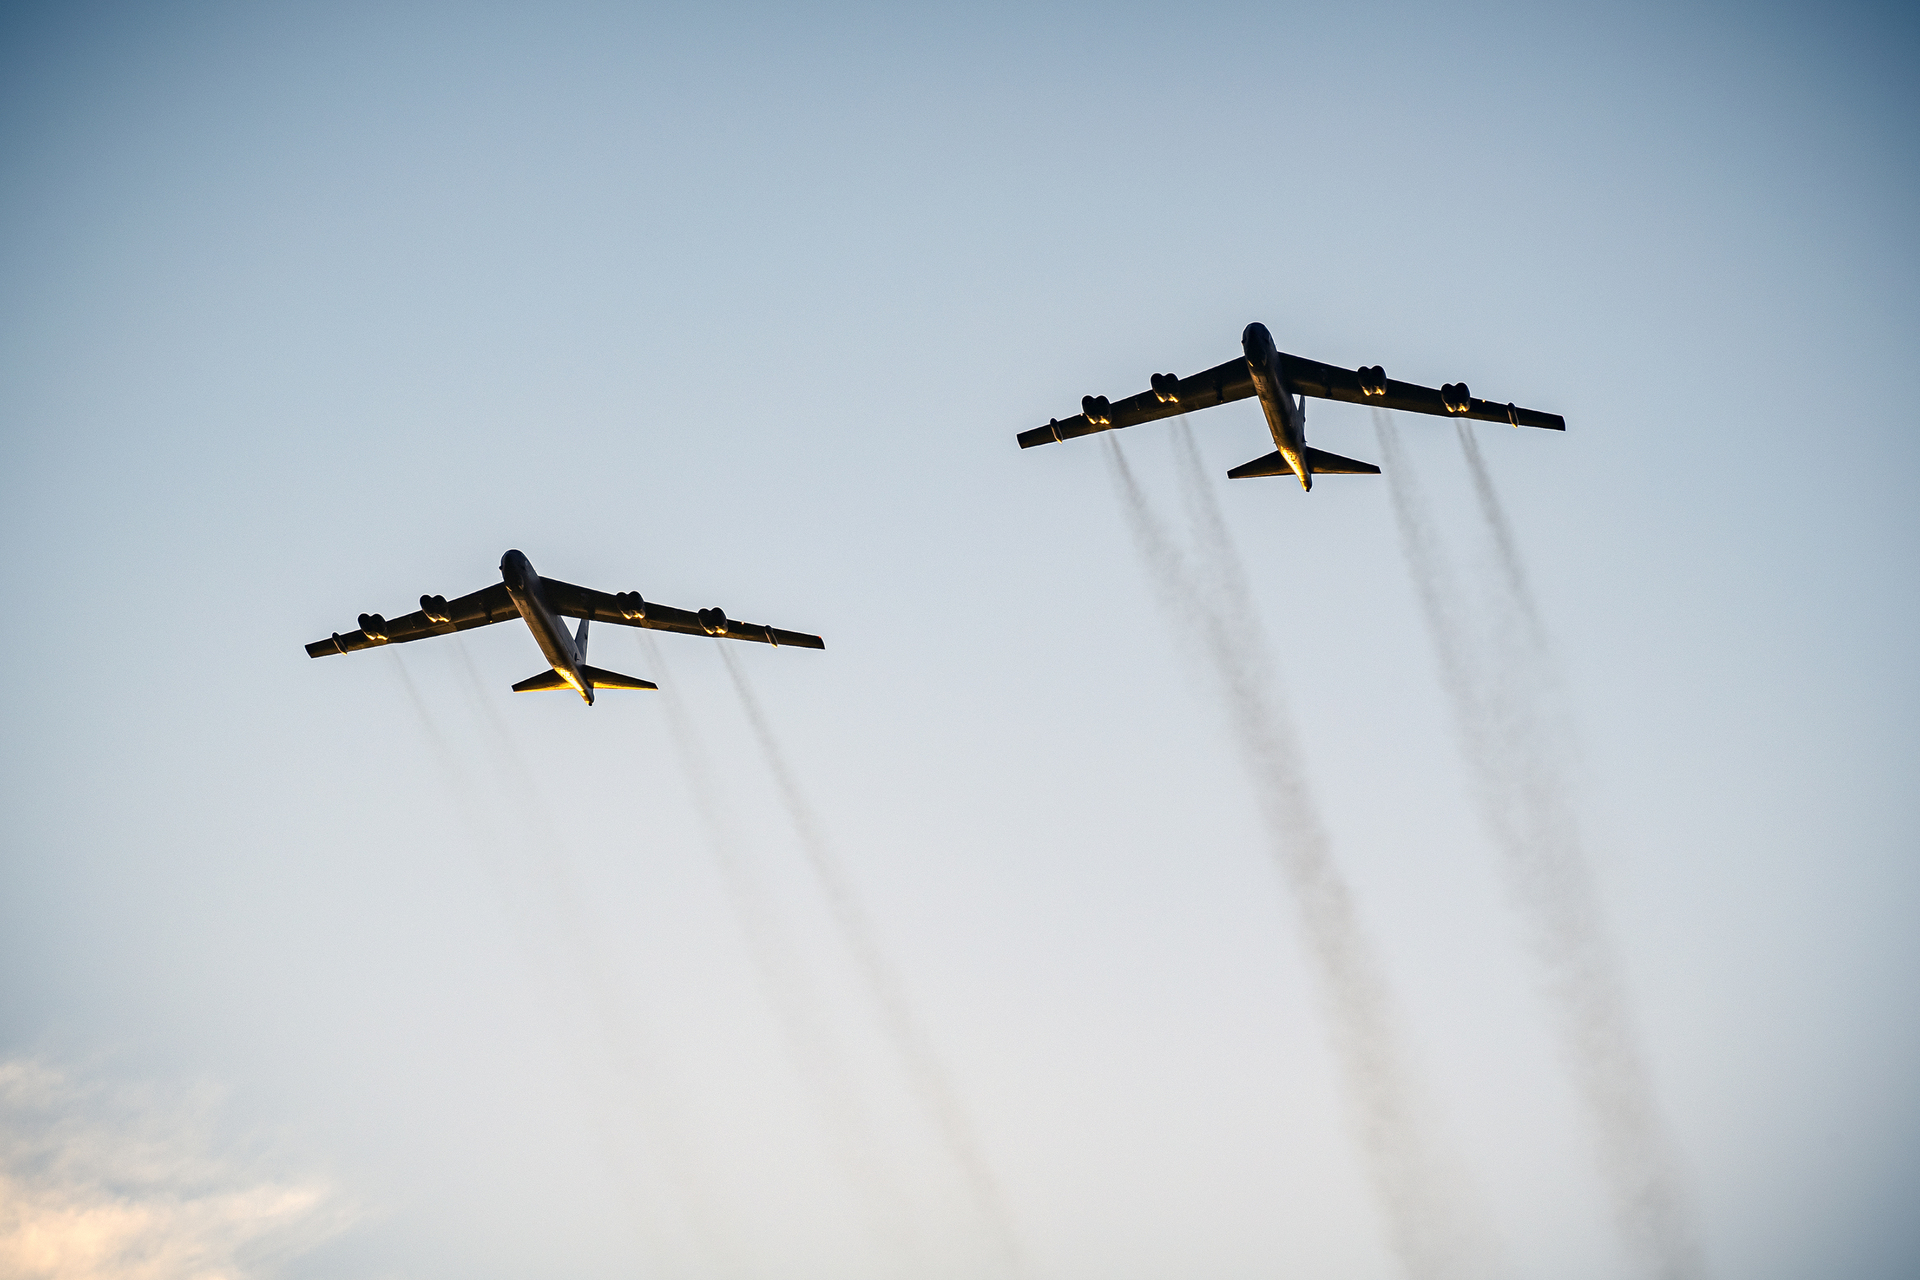B52: (1014, 321, 1566, 493), (303, 549, 826, 707)
